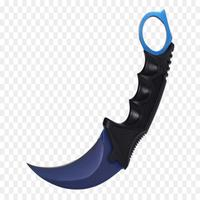knife: (25, 6, 172, 194)
